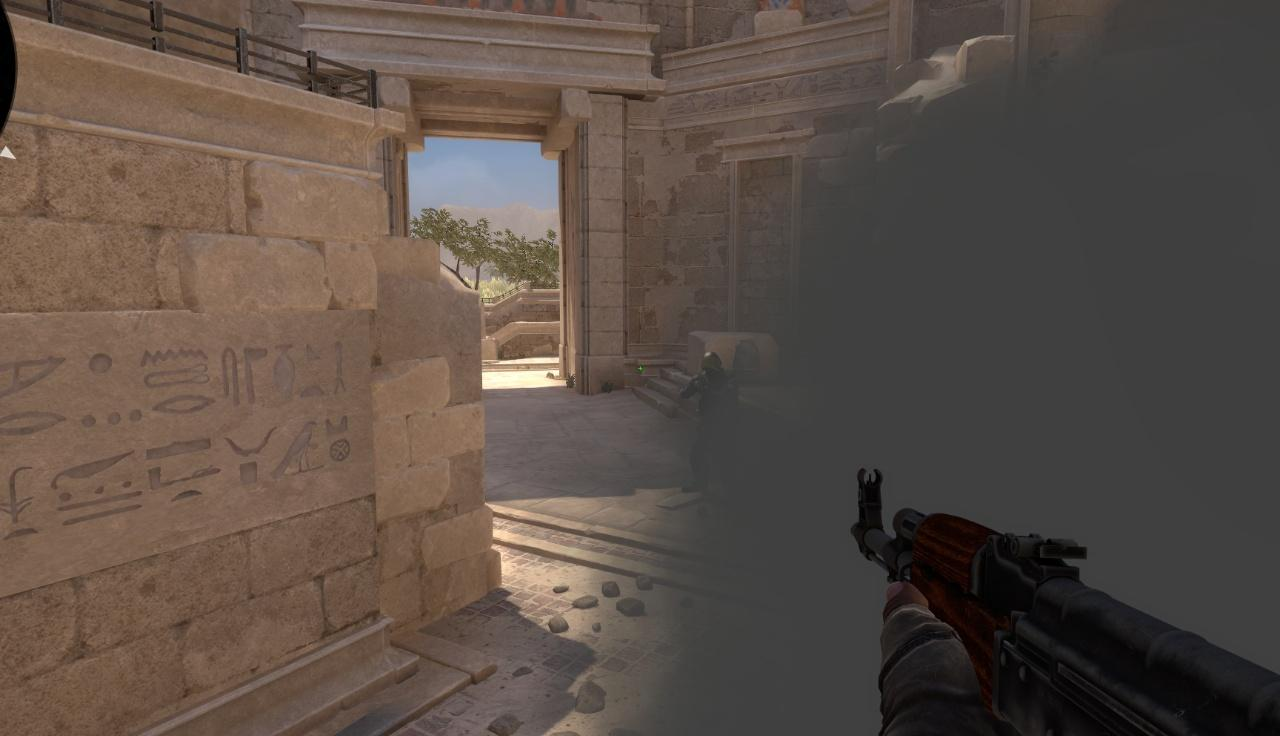ct: (681, 350, 735, 492)
cthead: (702, 354, 724, 381)
rifle: (857, 473, 1280, 736)
